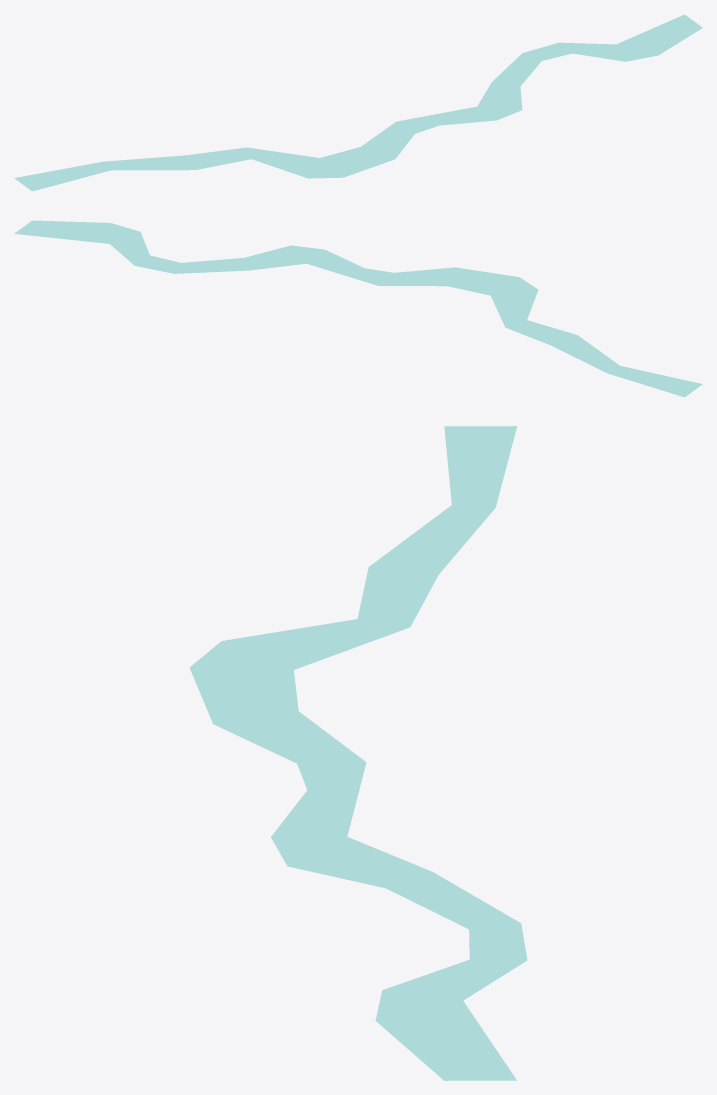
The model's file is wavewallstraight.fbx.
The picture shows the model from 3 angles, top to bottom: view 1: azimuth 30°, elevation 25°; view 2: azimuth 150°, elevation 25°; view 3: azimuth 270°, elevation 25°; orthographic projection. The views are drawn at different scales.
Parts seen in each view (by area): view 1: obj0.108; view 2: obj0.108; view 3: obj0.108.
Part boxes in pixels (left/top/right/bottom): obj0.108: left=14, top=14, right=702, bottom=191; obj0.108: left=14, top=220, right=702, bottom=397; obj0.108: left=189, top=426, right=527, bottom=1080.
Bounding box in the file's own units: 20 × 0.000532 × 4.36.
